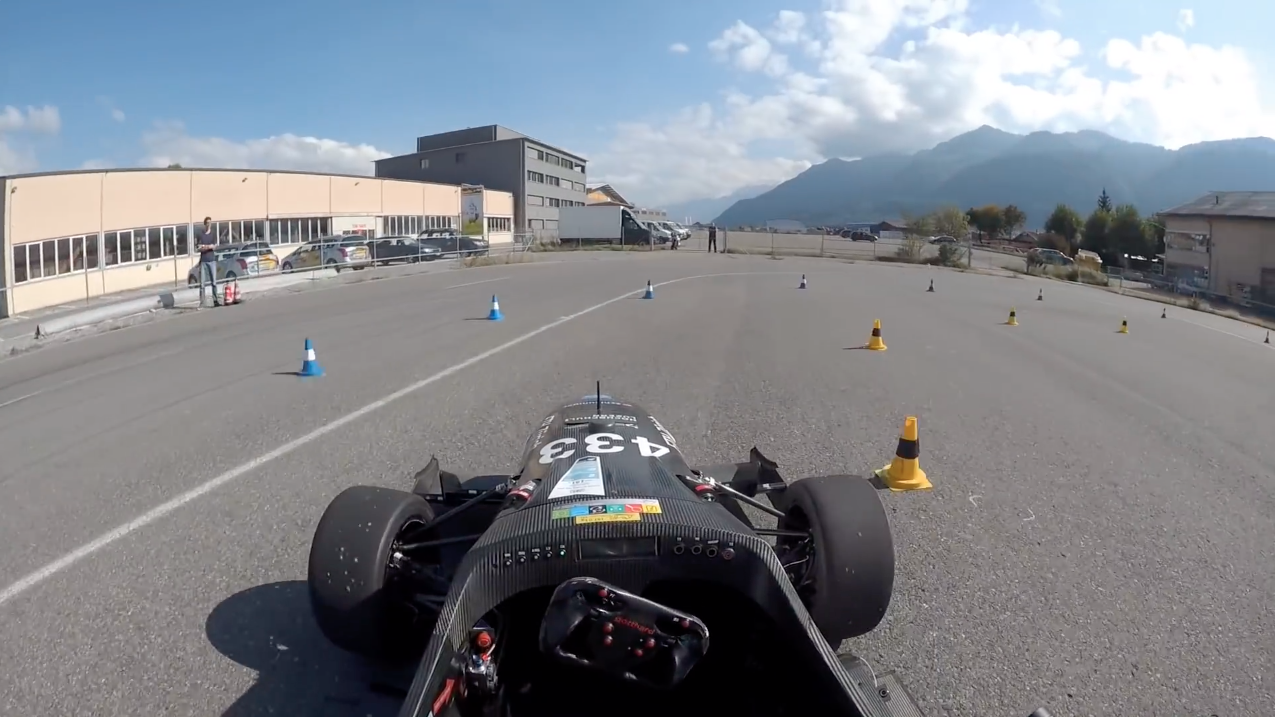lcone: (293, 335, 329, 382), (479, 288, 512, 324), (639, 276, 660, 303)
rcone: (872, 411, 943, 496), (861, 315, 893, 356)
